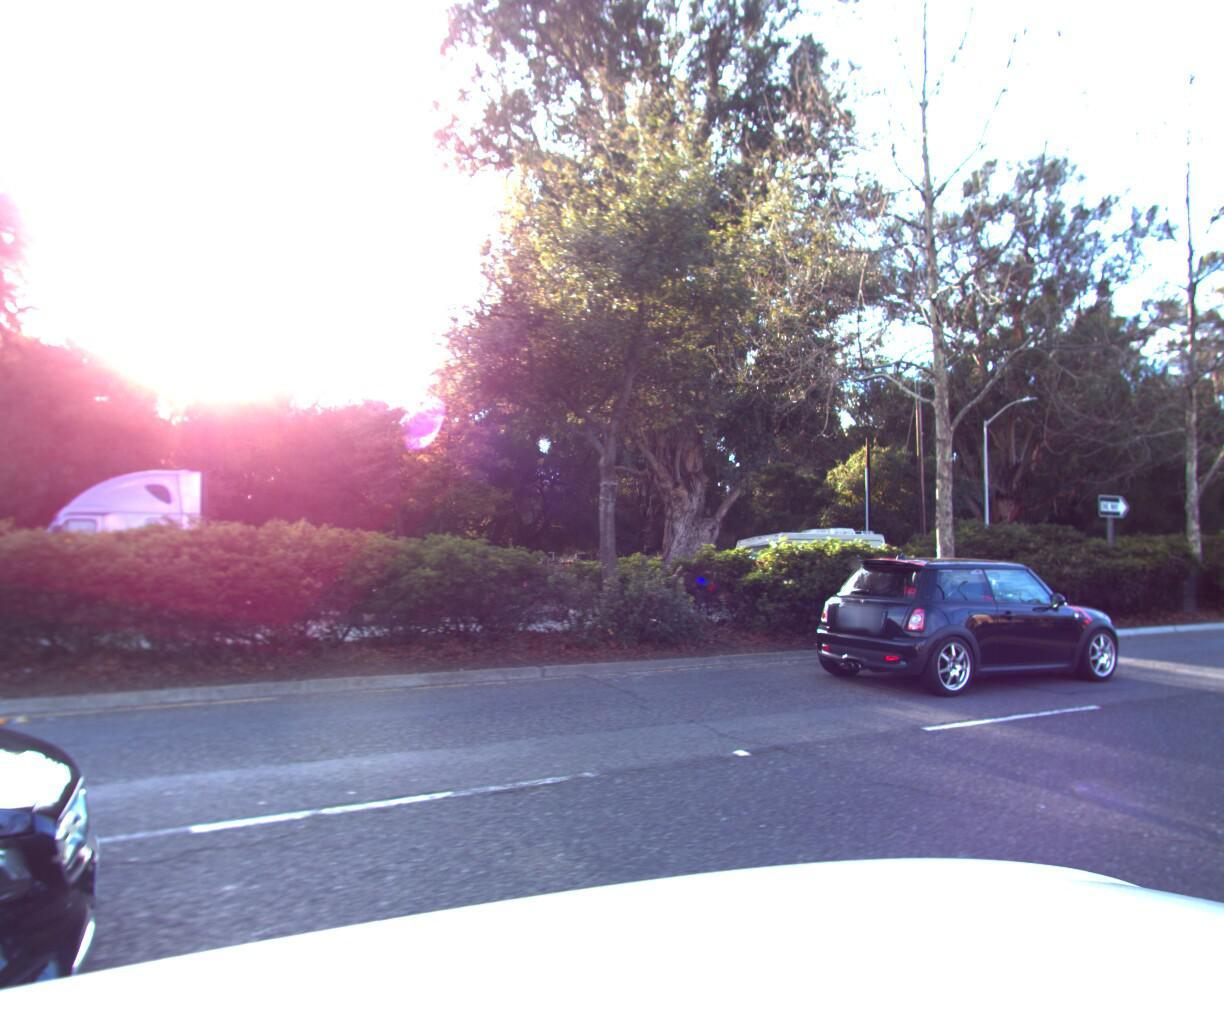car: (793, 545, 1117, 702), (0, 526, 85, 651)
other_vehicle: (717, 520, 894, 609)
truck: (0, 457, 336, 635)
